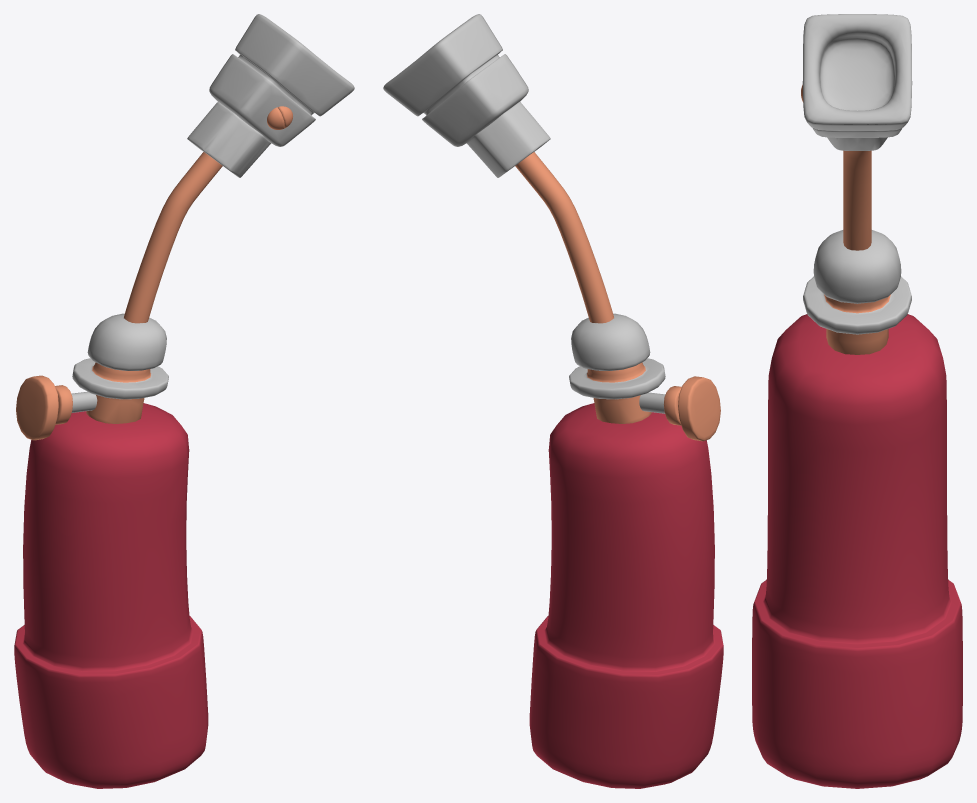
Rendered from blowtorch.fbx.
3 views of the same model, side by side, from view 1: azimuth 30°, elevation 25°; view 2: azimuth 150°, elevation 25°; view 3: azimuth 270°, elevation 25° (orthographic). The views are drawn at different scales.
Visible parts, largest first — view 1: blowtorch; view 2: blowtorch; view 3: blowtorch.
Boxes of the visible parts, bbox=[...] form: blowtorch: bbox=[14, 14, 354, 788]; blowtorch: bbox=[383, 14, 723, 788]; blowtorch: bbox=[752, 14, 962, 788].
Bounding box in the file's own units: 445 × 956 × 216.
